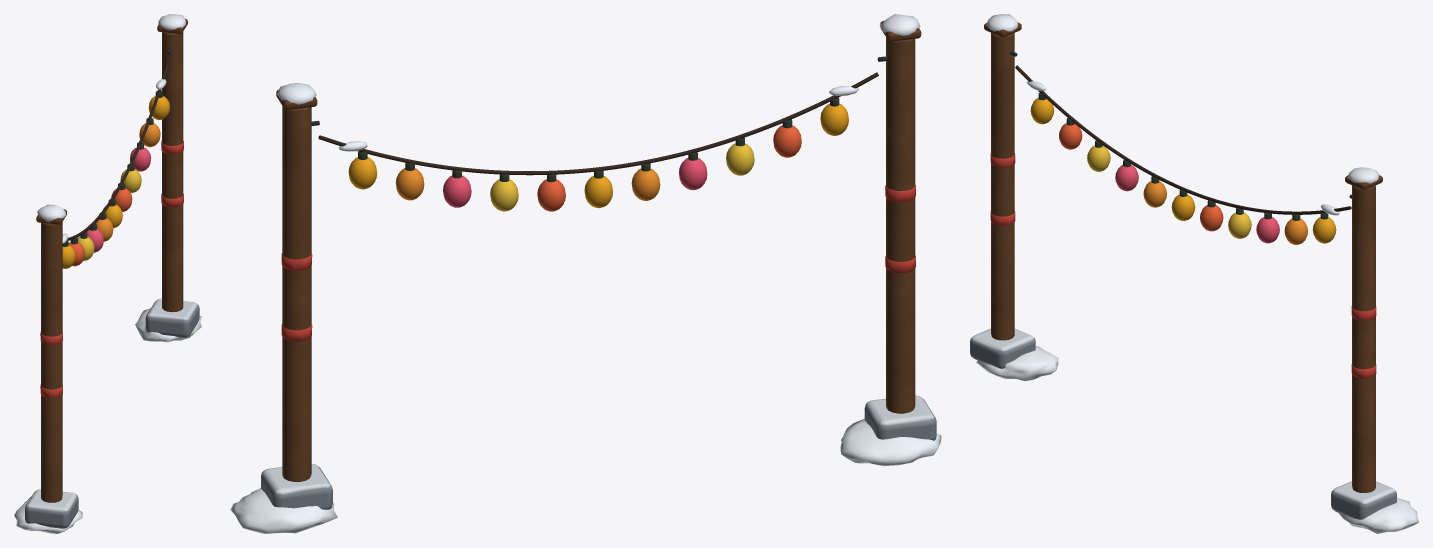
The model's file is lantern_string.glb.
3 renders of one model, left to right at view 1: azimuth 30°, elevation 25°; view 2: azimuth 150°, elevation 25°; view 3: azimuth 270°, elevation 25°, orthographic. The views are drawn at different scales.
Parts seen in each view (by area): view 1: base, wire; view 2: base, wire; view 3: base, wire.
Boxes of the visible parts, x1,y1,x2,y2 form: base: [14, 14, 201, 533]; wire: [67, 62, 169, 240]; base: [230, 14, 941, 533]; wire: [318, 72, 878, 175]; base: [970, 14, 1418, 533]; wire: [1015, 65, 1351, 214].
Size of the model in its own units: 2.79 by 2.46 by 2.81.
Materials: 2 (1 with a texture image).
